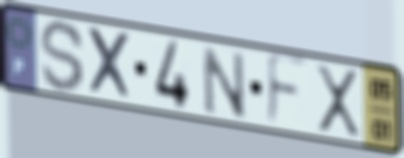4: (152, 38, 192, 113)
F: (264, 50, 310, 131)
N: (199, 42, 249, 121)
S: (38, 18, 87, 95)
X: (84, 24, 137, 104), (313, 62, 363, 140)
